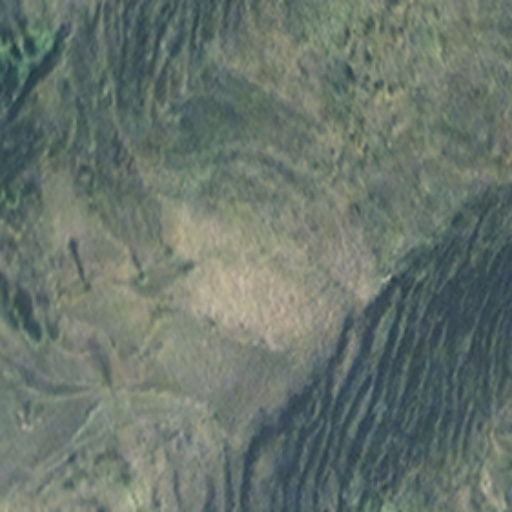landslide: (158, 193, 376, 353)
